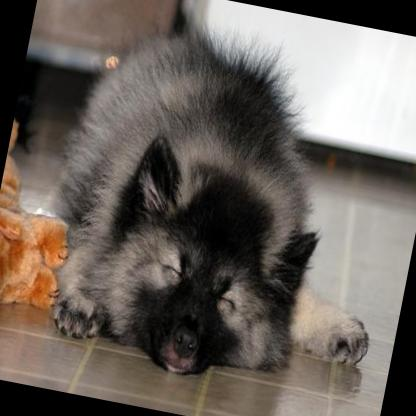keeshond: (19, 0, 416, 408)
